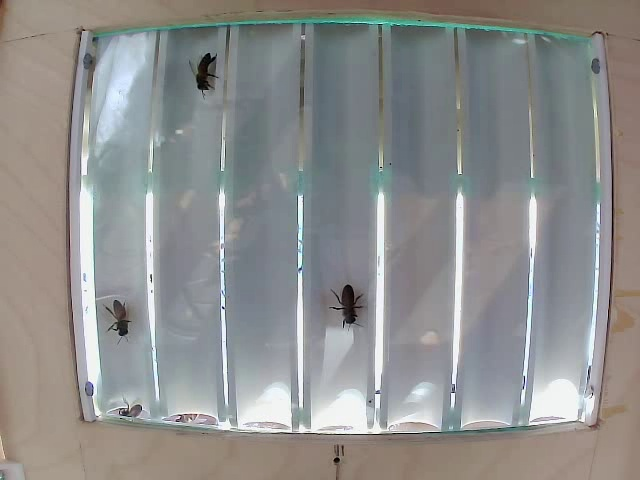bee: (98, 283, 130, 339), (341, 287, 372, 337), (193, 49, 222, 91)
